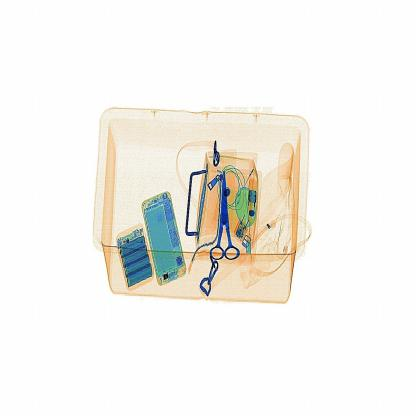gun: (199, 155, 248, 276)
